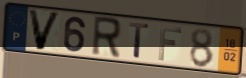6: (63, 15, 88, 54)
8: (188, 27, 217, 69)
F: (157, 24, 184, 63)
R: (90, 15, 123, 61)
T: (127, 21, 151, 61)
V: (26, 8, 63, 52)
